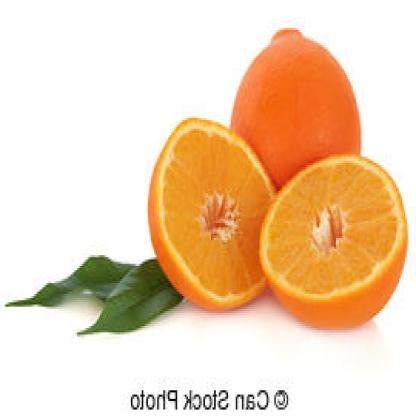orange: (225, 28, 374, 253)
